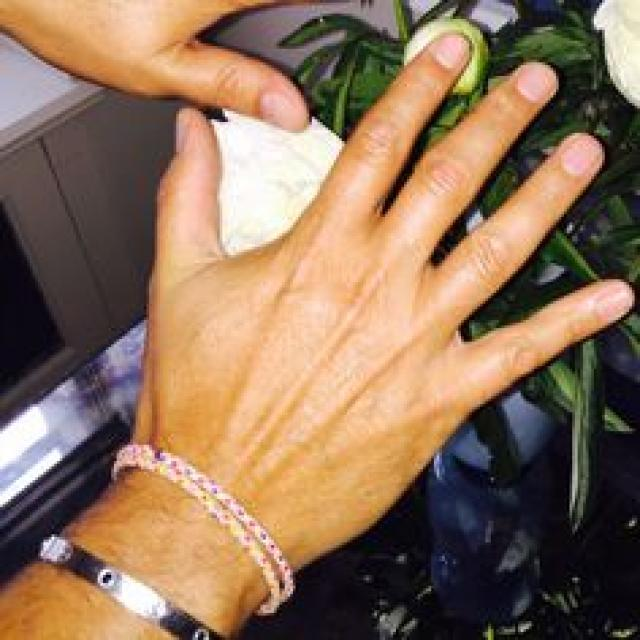Fingernail: (261, 93, 305, 134), (593, 283, 634, 320), (518, 62, 555, 102), (562, 137, 598, 174), (433, 33, 466, 68), (175, 112, 188, 154)
